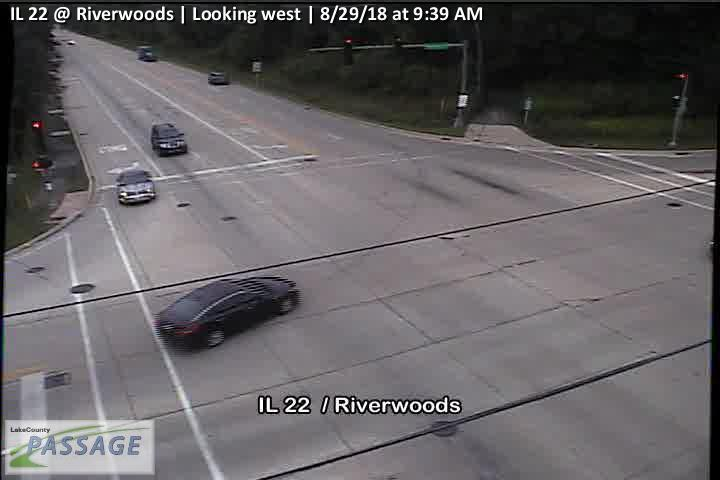SUV: (151, 123, 188, 157)
Sedan: (154, 277, 301, 348), (116, 167, 156, 205), (208, 72, 228, 85)
